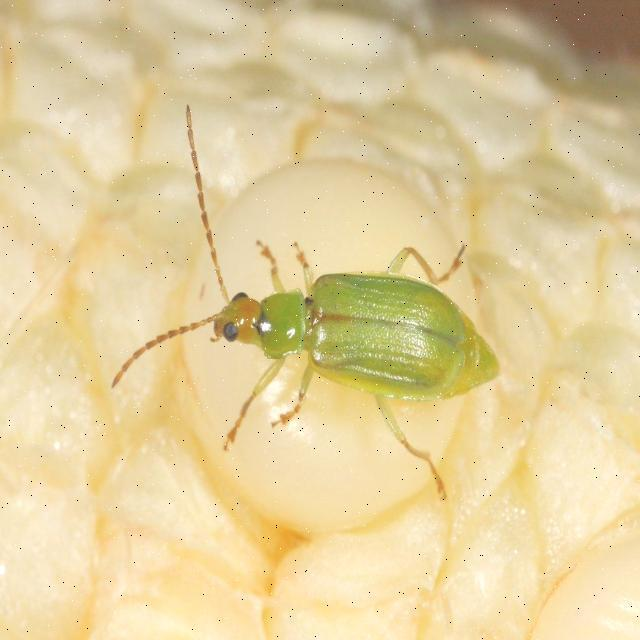gusano_gris: (109, 89, 564, 526)
